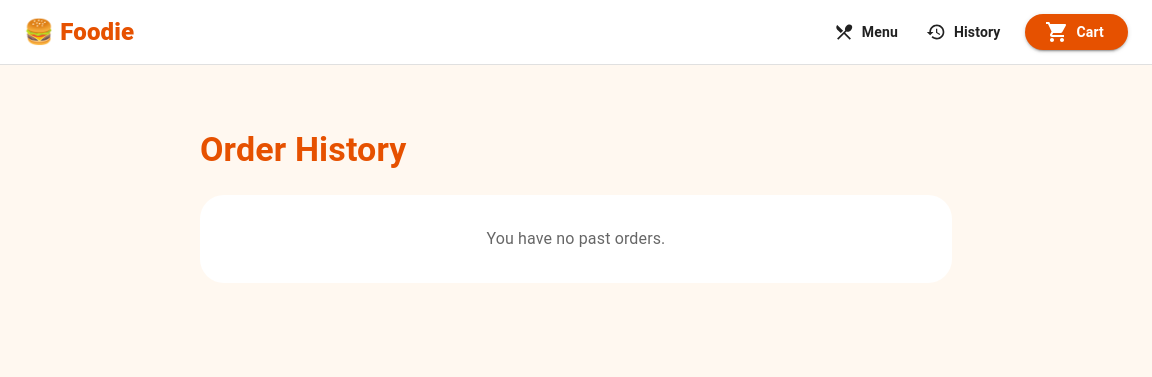
Test: App Component Integration › should navigate to Cart page when clicking the Cart link
The width and height of the screenshot is (1152, 377).
Click the link "Cart": (1076,32) x1=1024 y1=14 x2=1128 y2=50
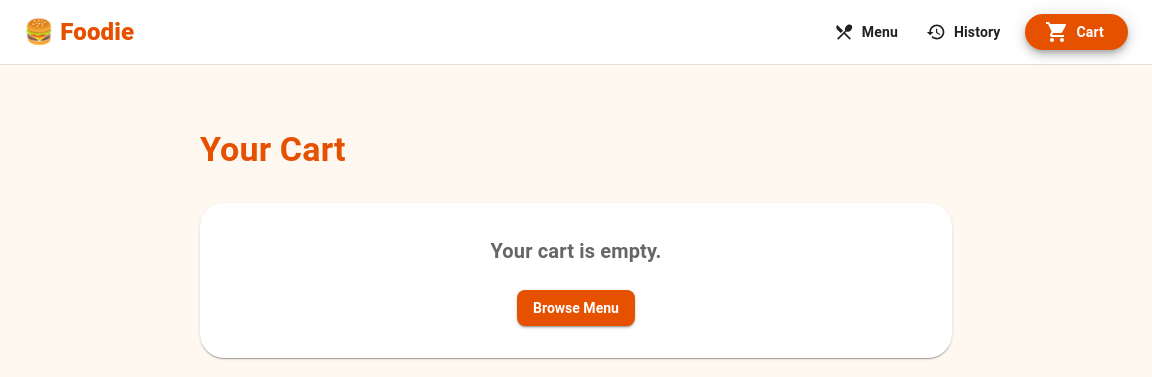
Now the heading "Your Cart" is shown, box x1=200 y1=129 x2=346 y2=169
